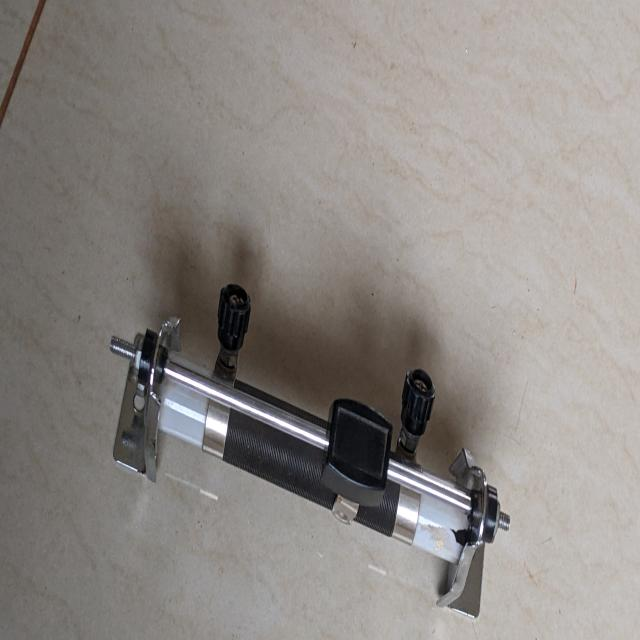Rheostat: (100, 293, 514, 631)
